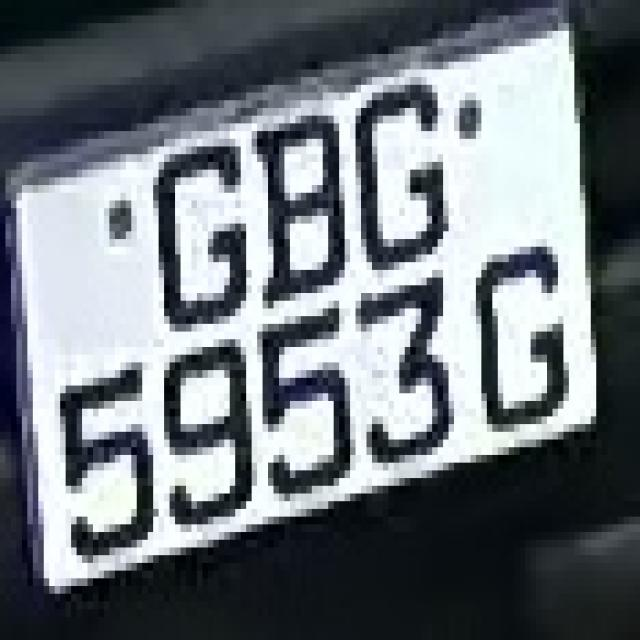3: (356, 277, 454, 493)
5: (44, 331, 164, 563), (257, 293, 383, 509)
9: (153, 324, 279, 540)
B: (240, 92, 356, 286)
G: (345, 61, 465, 278), (142, 123, 252, 340), (470, 232, 580, 439)
